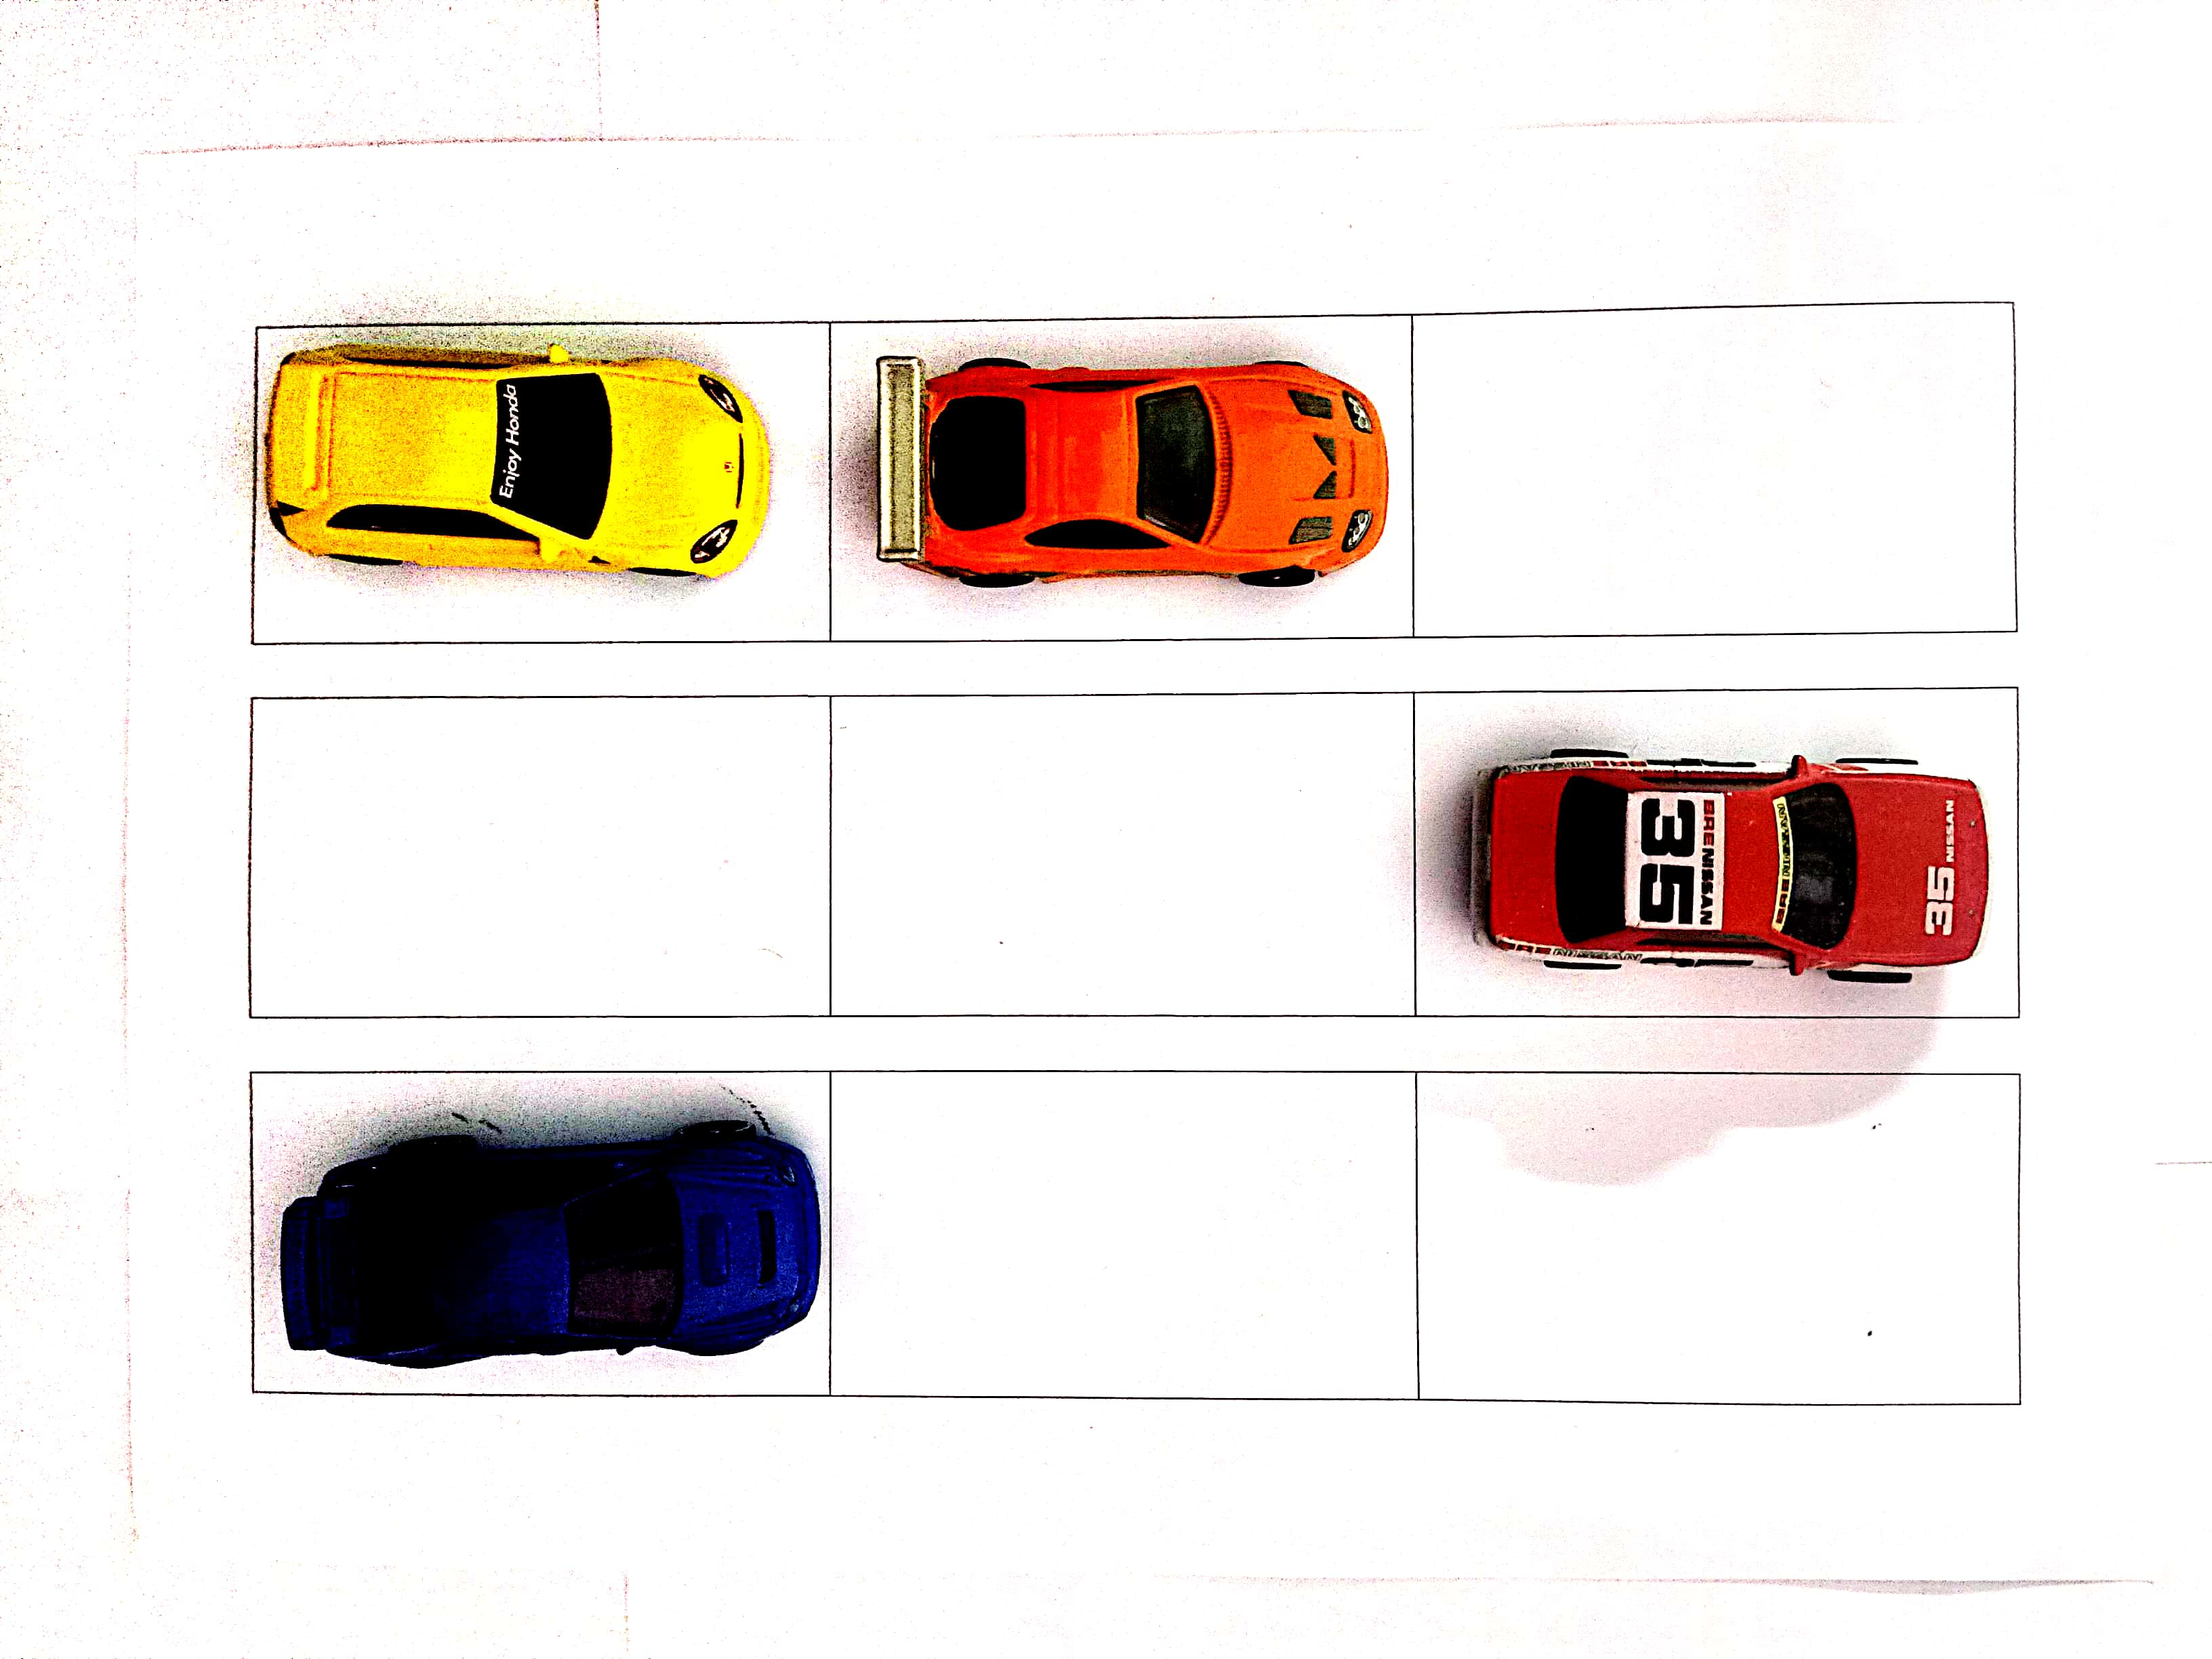Busy: (1413, 688, 2019, 1016), (247, 1070, 829, 1394), (829, 322, 1409, 643), (258, 328, 827, 638)
Free: (1414, 1065, 2017, 1401), (1409, 301, 2017, 634), (833, 1070, 1413, 1399), (829, 692, 1413, 1011), (249, 699, 824, 1019)
